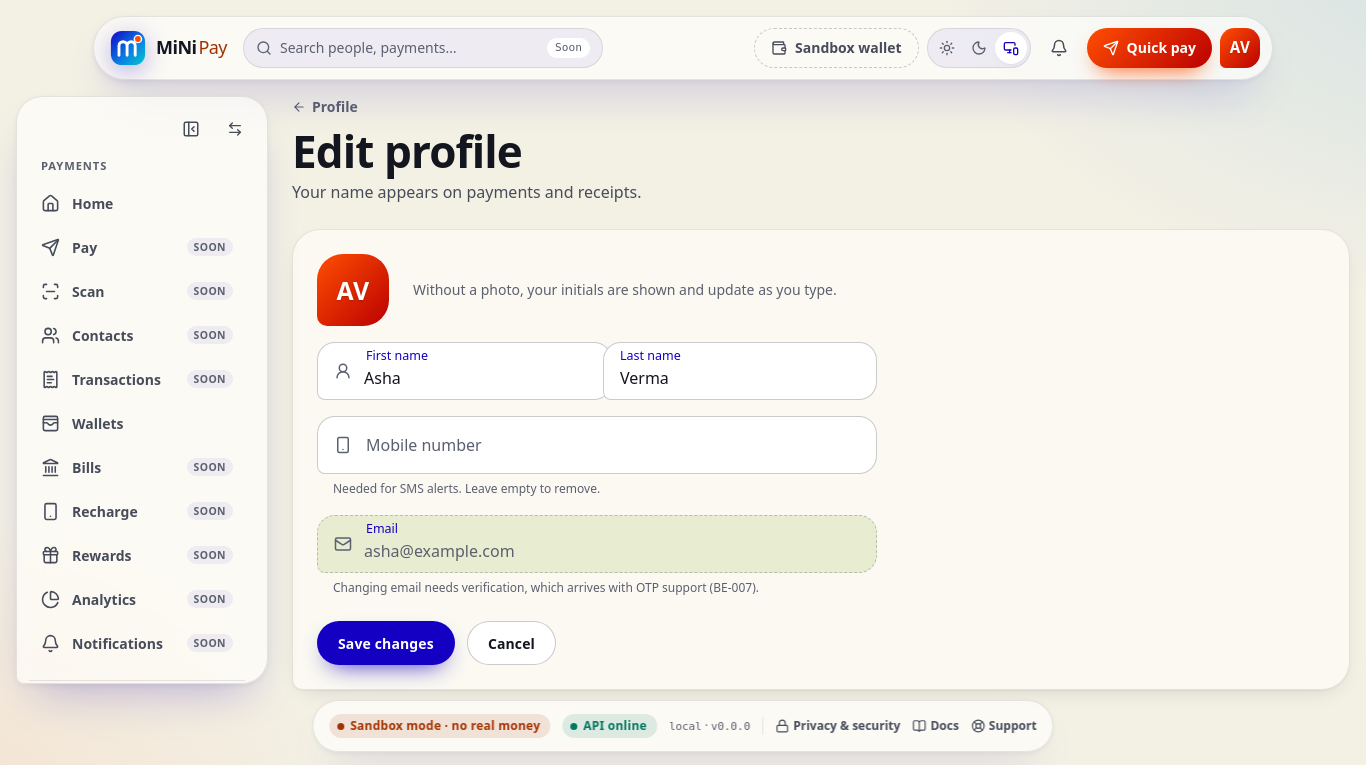
it: profile › edits the name and phone and updates the session user
Replace the text in the field labelled "Last name" with "Rao" at (740, 371), box [620,343,860,399]
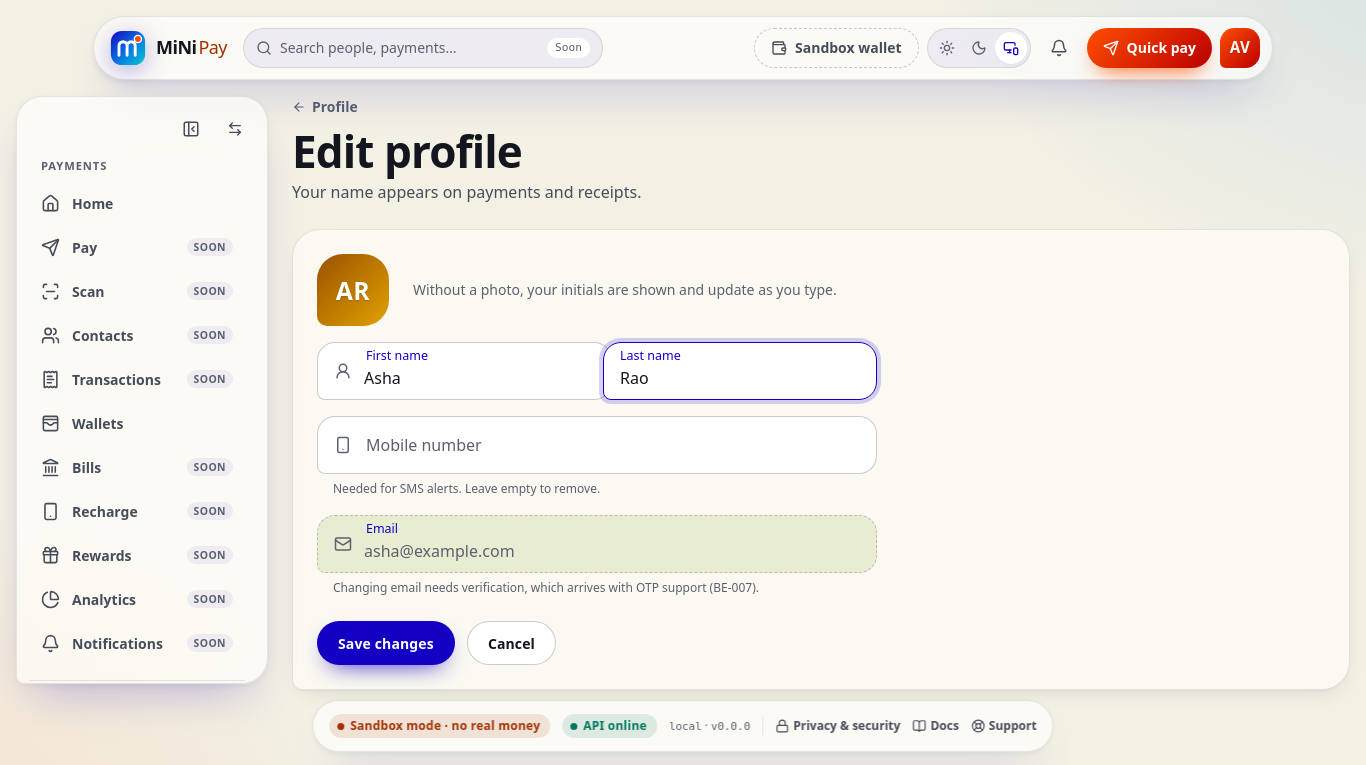
Expected: the text "AR" is shown, [336,271,370,309]
Type "9876543210" into the field labelled "Mobile number".
click(612, 445); type("9876543210")  # box [364,417,860,473]
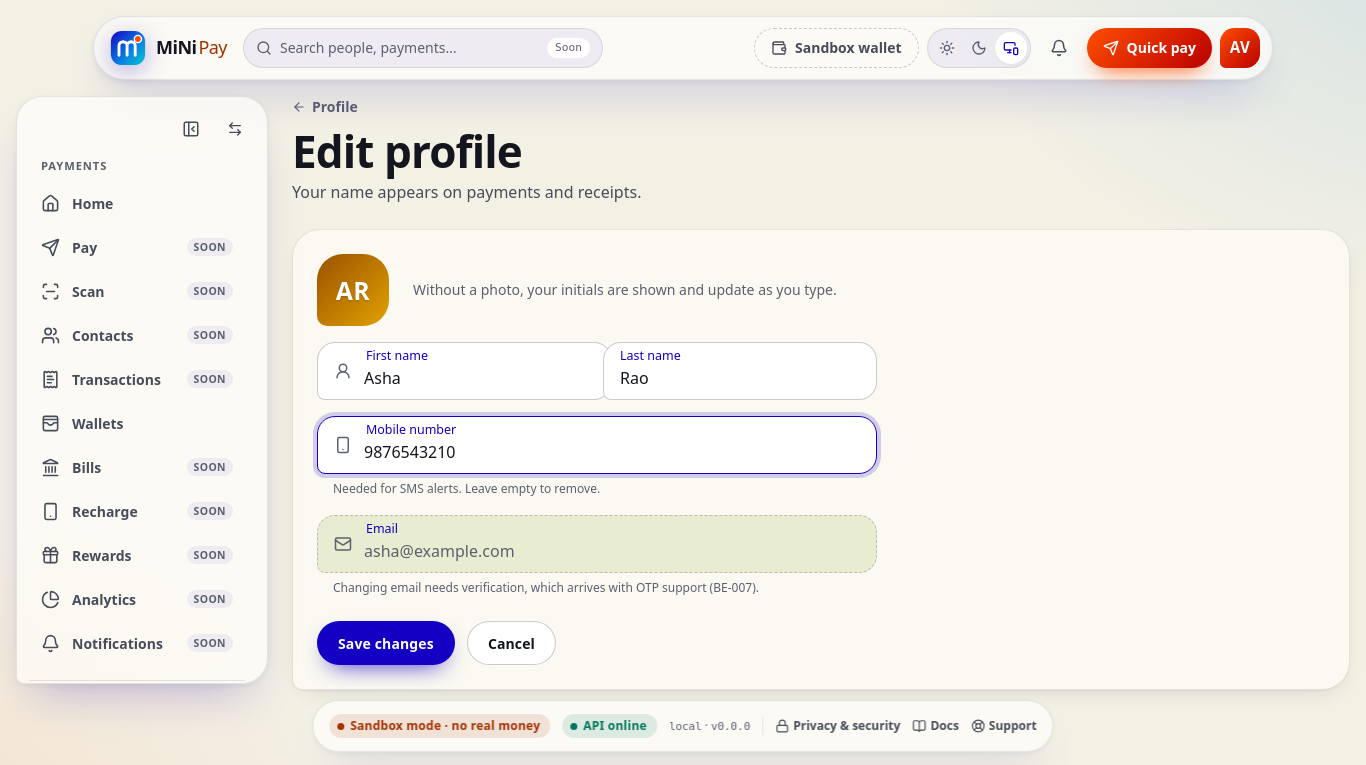
Click the button "Save changes".
click(386, 643)  # box [317,621,455,665]
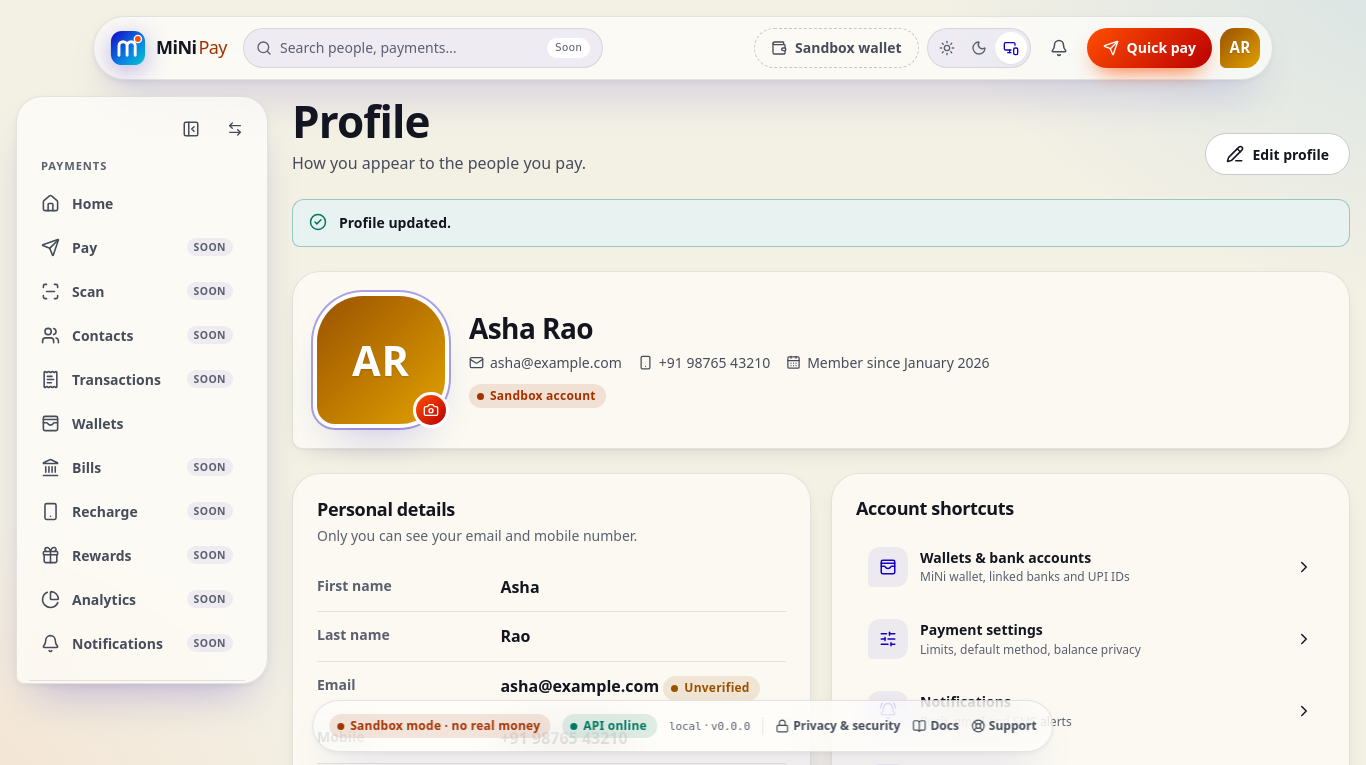
Result: the text "Profile updated." is shown at [339,212,451,234]
Result: the button with aria-label "Account menu for Asha Rao" is shown at [1220,28,1260,68]
